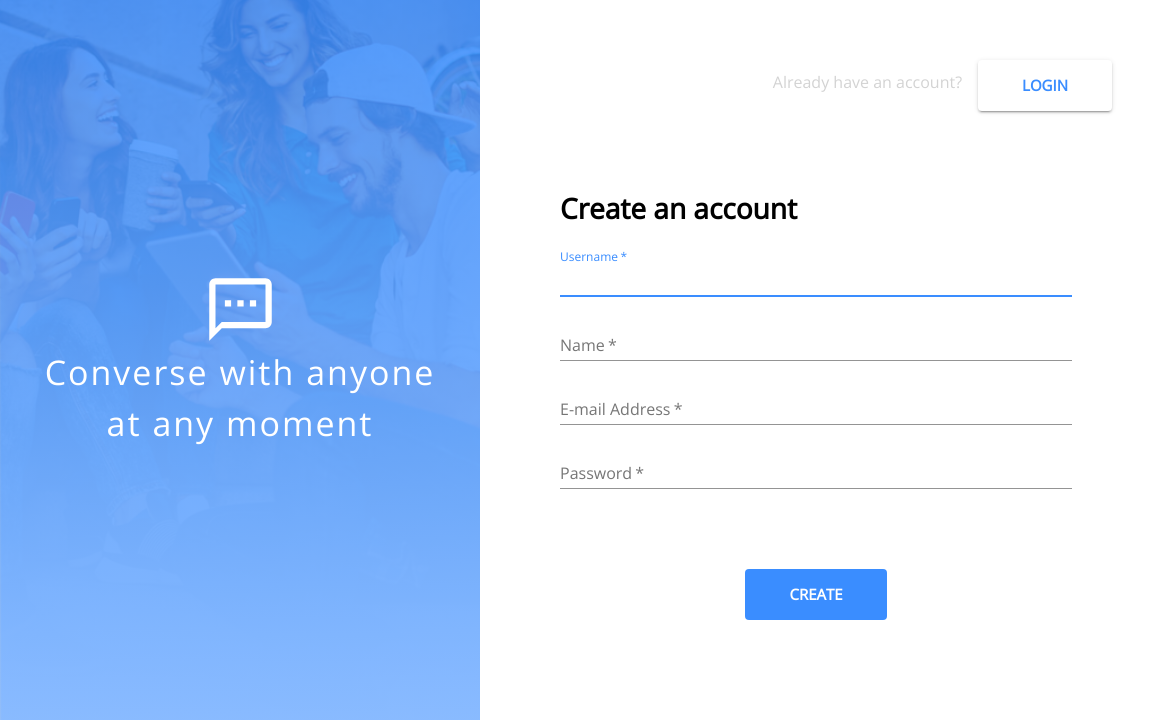
Register Page › Username Too Short
Expected: the text "Create an account" is shown, [560,189,797,227]
Type "a" into the field with id "username" at (816, 281), box [560,265,1072,297]
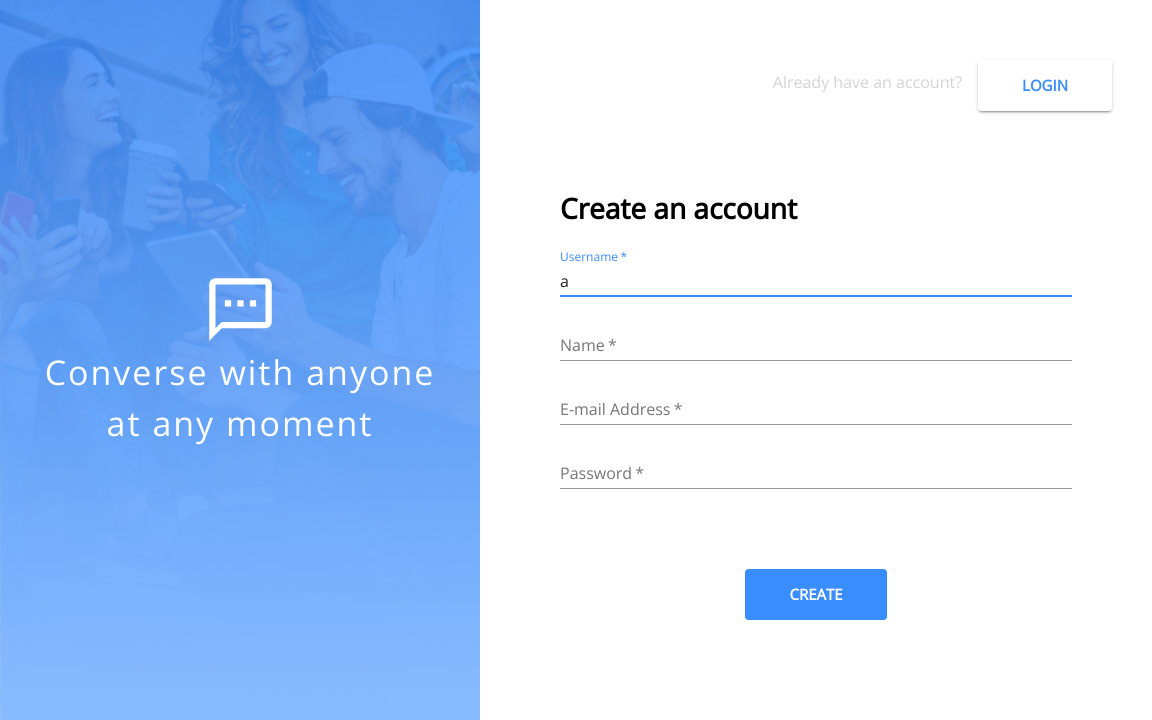
Type "account" into the field with id "name" at (816, 345), box [560,329,1072,361]
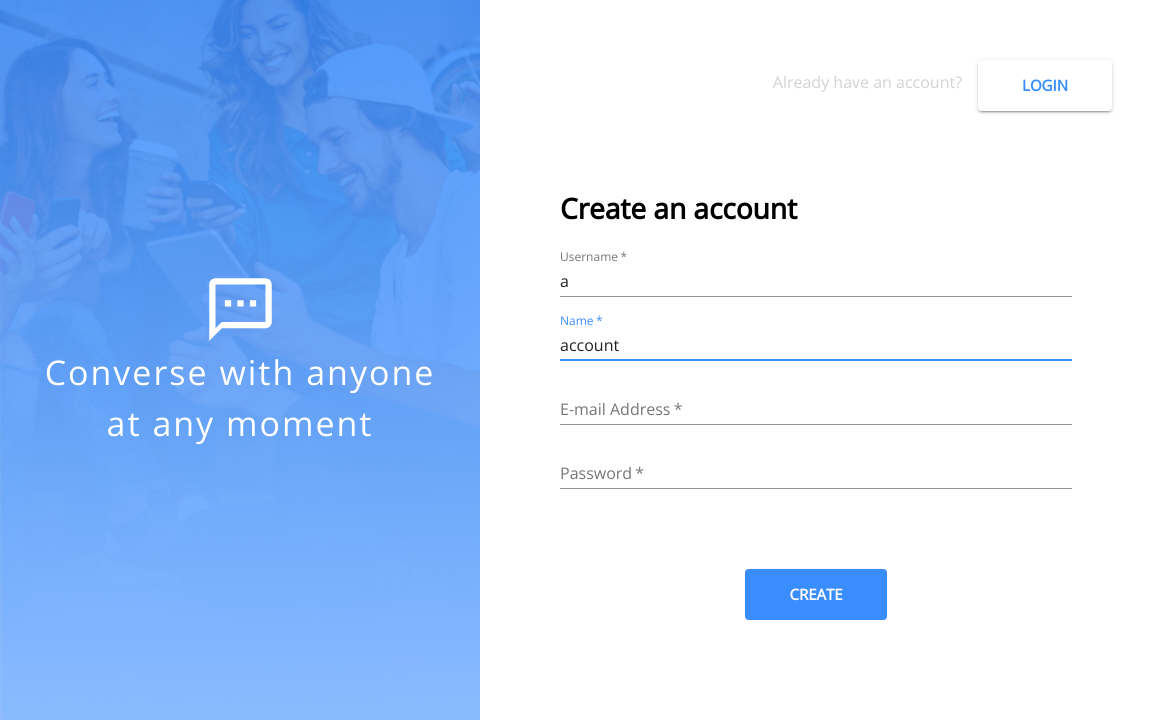
Type "account@gmail.com" into the field with id "email" at (816, 409), box [560,393,1072,425]
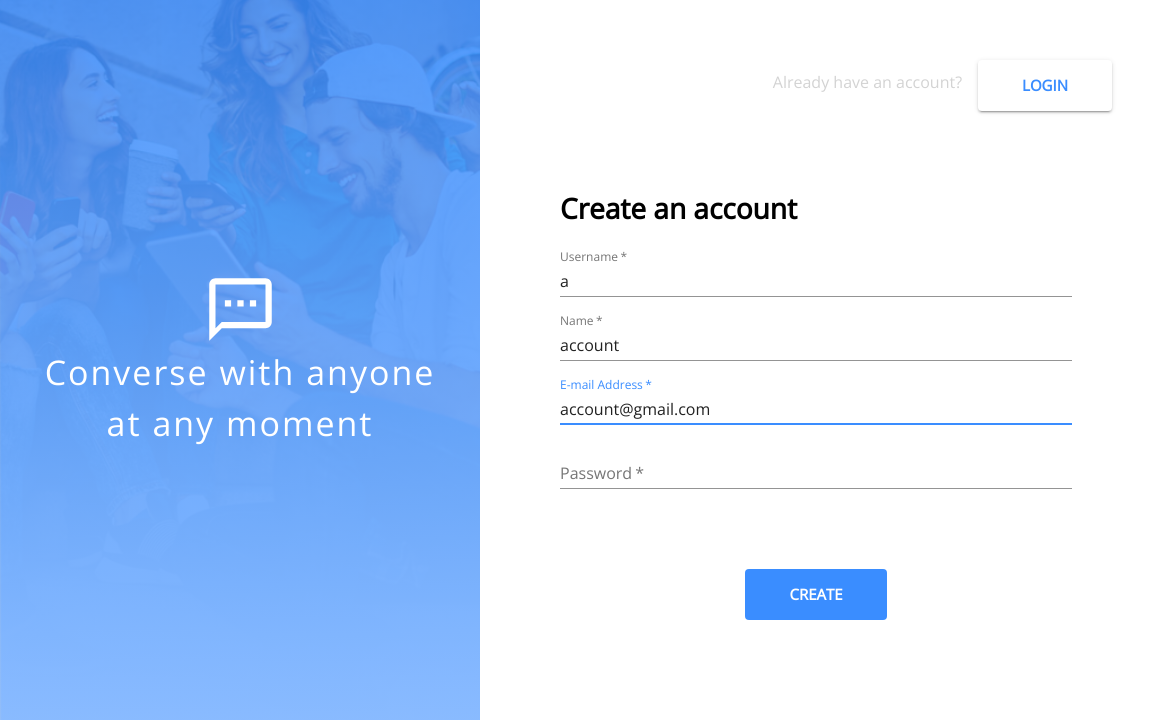
Type "account" into the password field labelled "Password *" at (816, 473), box [560,457,1072,489]
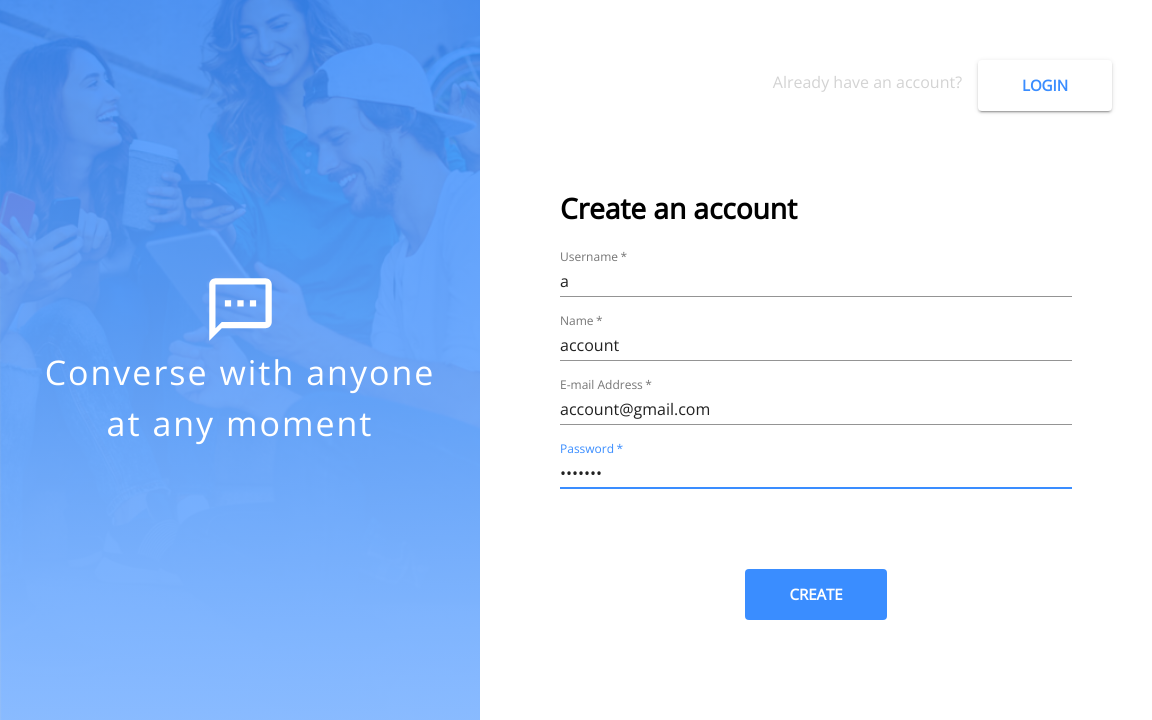
Click the button with id "create-button" at (816, 594), box [745,569,886,619]
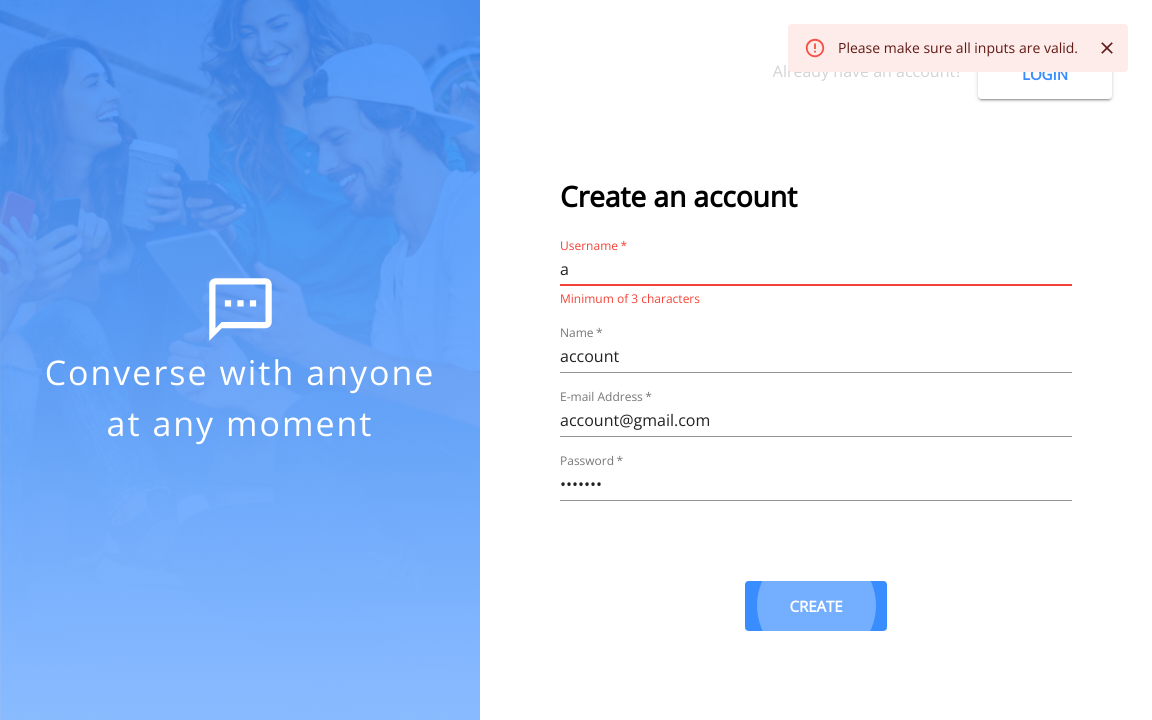
Result: the text "Minimum of 3 characters" is shown at [560,290,700,307]
